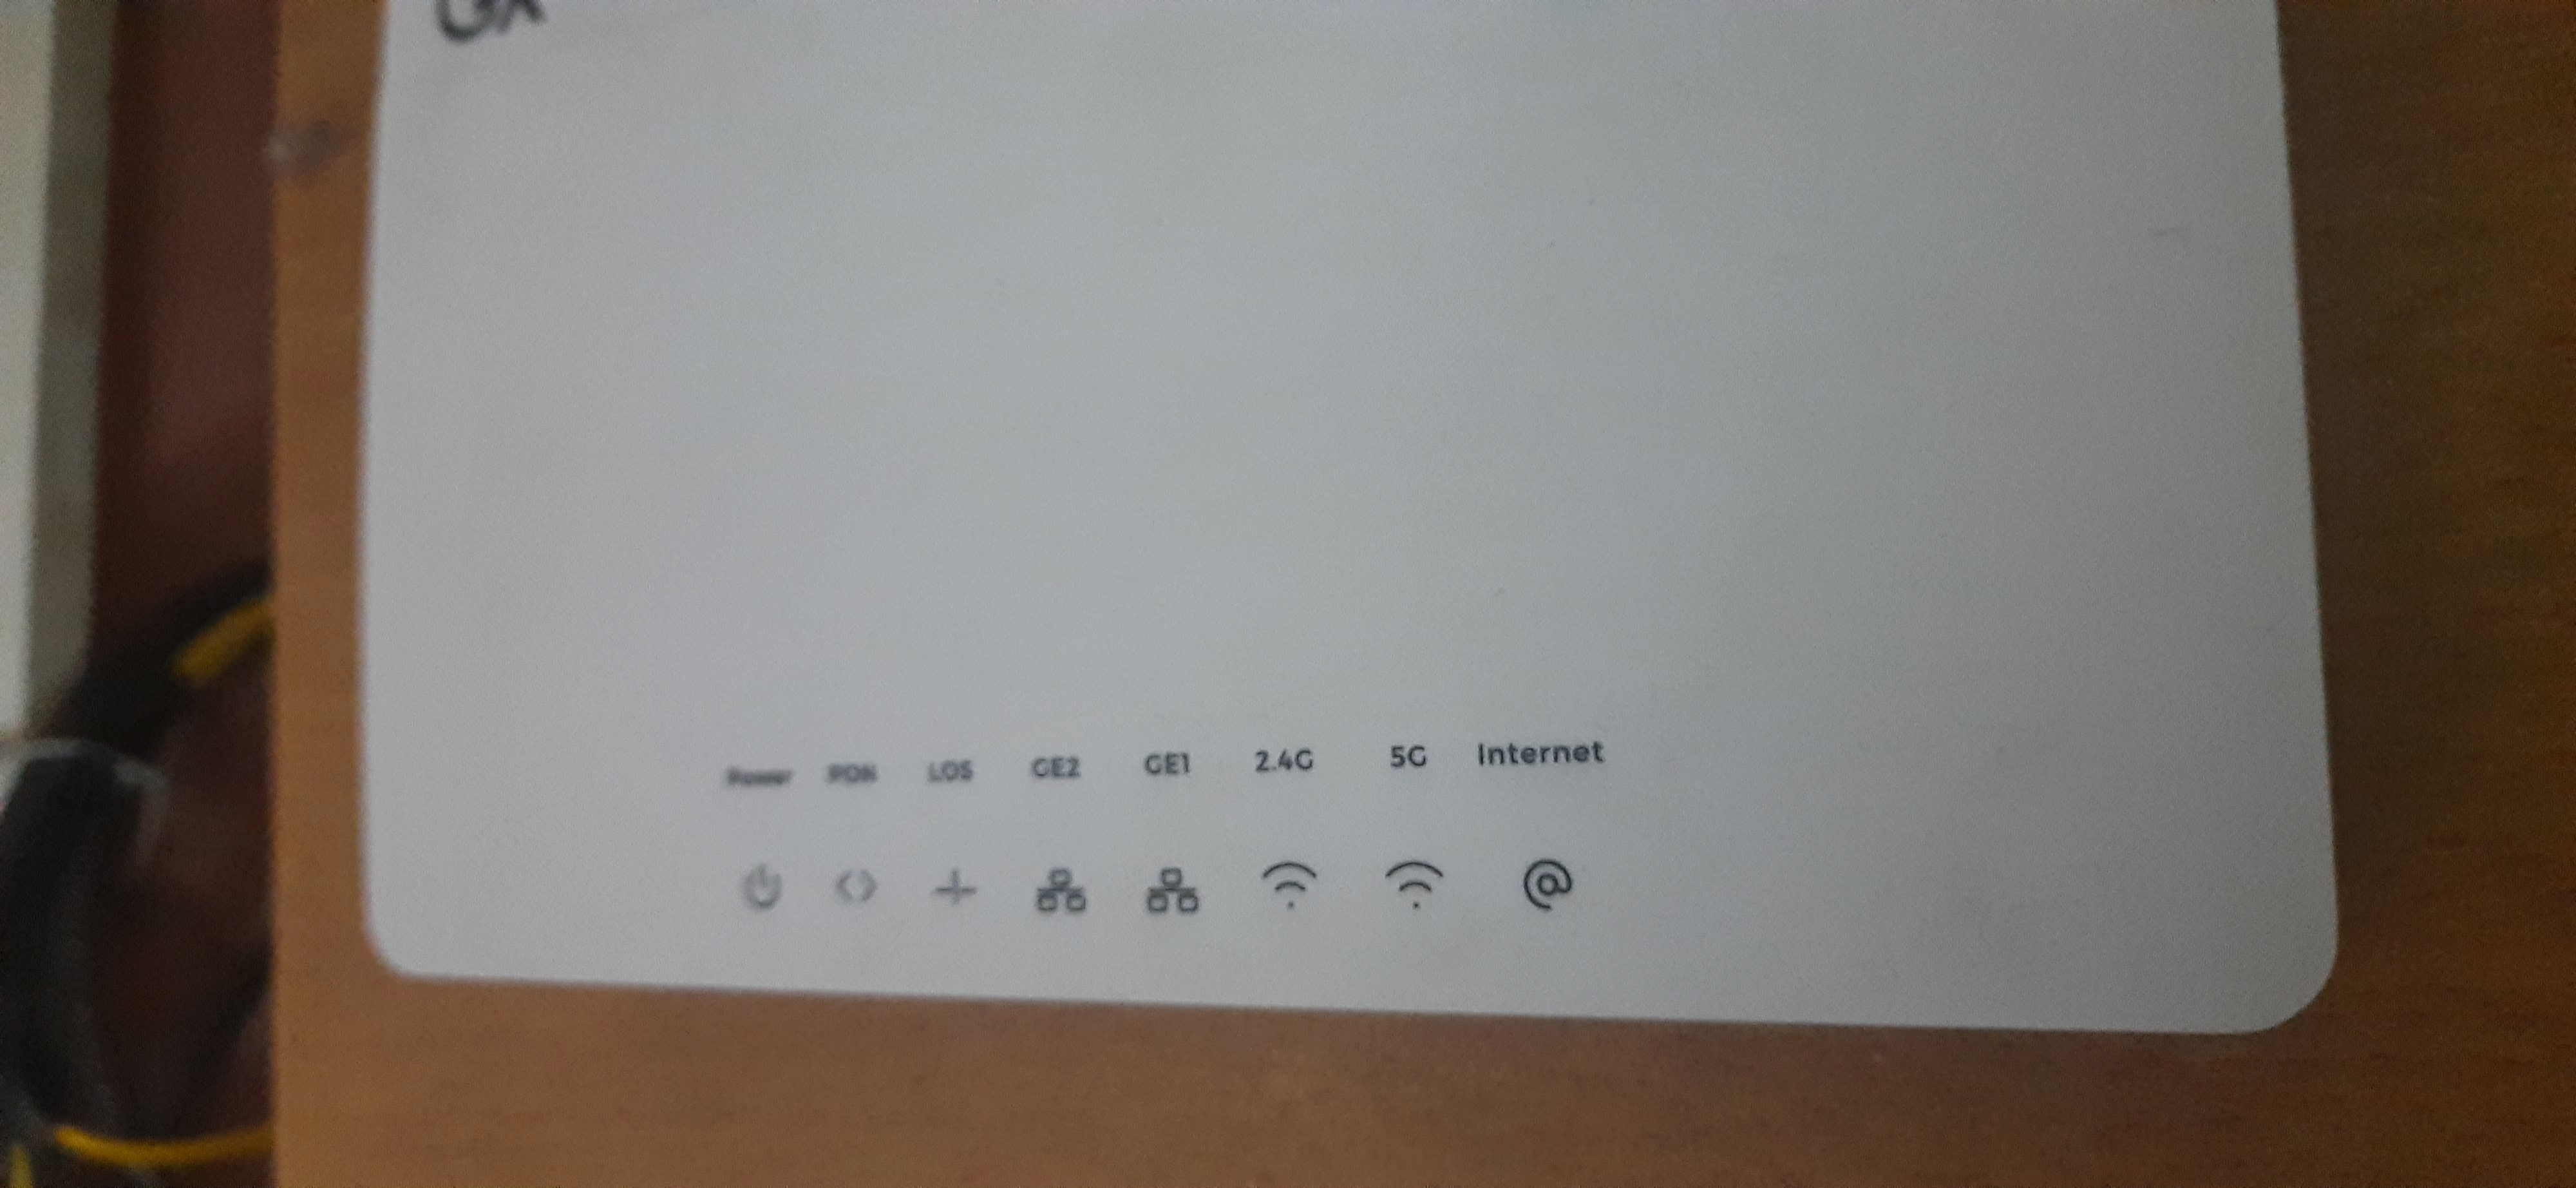WhiteWireIssue: (669, 743, 1654, 942)
